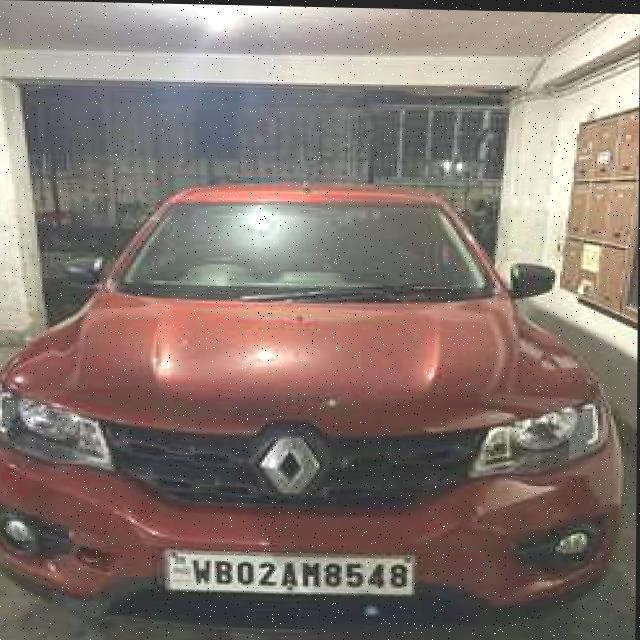plate: (165, 548, 417, 596)
